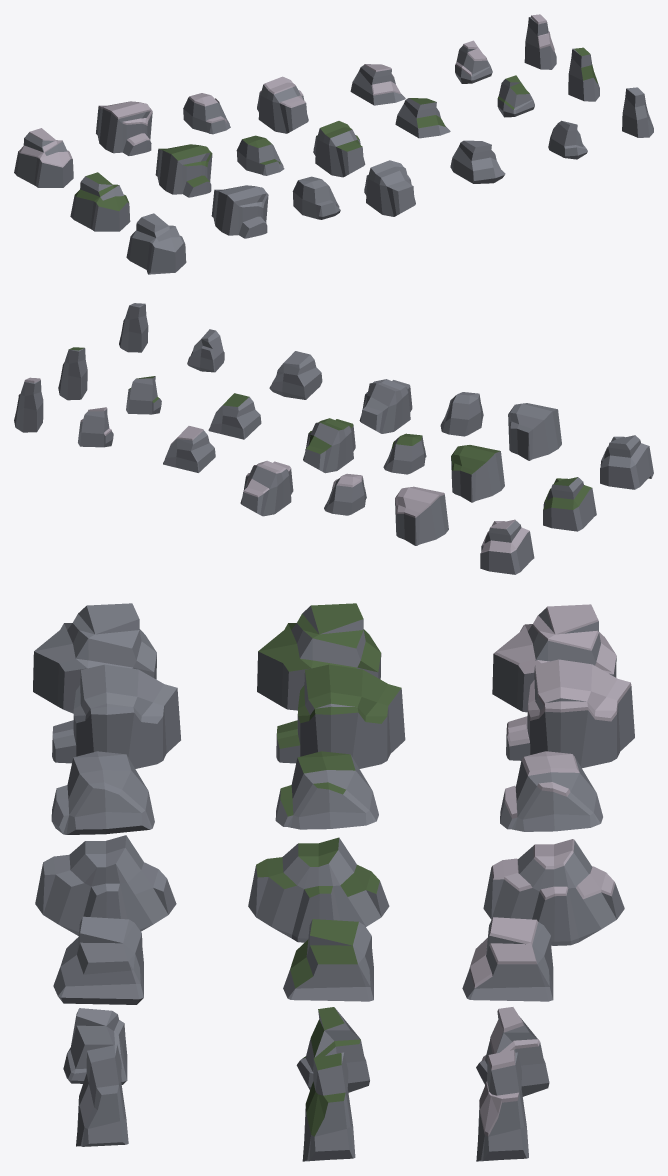
The model's file is rocks.glb.
The picture shows the model from 3 angles, top to bottom: view 1: azimuth 30°, elevation 25°; view 2: azimuth 150°, elevation 25°; view 3: azimuth 270°, elevation 25°; orthographic projection. The views are drawn at different scales.
Parts seen in each view (by area): view 1: Rock_7, Rock_Snow_6, Rock_Snow_7, Rock_Moss_7, Rock_Moss_6, Rock_6, Rock_4, Rock_Snow_4, Rock_Moss_4, Rock_3, Rock_Snow_3, Rock_Moss_3 (+9 smaller); view 2: Rock_Snow_6, Rock_6, Rock_Moss_6, Rock_Snow_7, Rock_7, Rock_Moss_7, Rock_Snow_4, Rock_4, Rock_Moss_4, Rock_3, Rock_Snow_3, Rock_Moss_3 (+9 smaller); view 3: Rock_Snow_6, Rock_6, Rock_Moss_6, Rock_Snow_4, Rock_Moss_4, Rock_4, Rock_7, Rock_Moss_7, Rock_Snow_7, Rock_5, Rock_3, Rock_Snow_5 (+9 smaller).
Part boxes in pixels (x1,y1,x2,y2): Rock_7: (126, 213, 186, 274); Rock_Snow_6: (96, 101, 152, 155); Rock_Snow_7: (14, 128, 73, 187); Rock_Moss_7: (70, 172, 130, 231); Rock_Moss_6: (155, 144, 212, 197); Rock_6: (211, 185, 268, 238); Rock_4: (364, 160, 415, 216); Rock_Snow_4: (257, 76, 308, 133); Rock_Moss_4: (313, 121, 365, 177); Rock_3: (450, 140, 505, 183); Rock_Snow_3: (350, 64, 405, 105); Rock_Moss_3: (395, 98, 450, 138); Rock_Snow_6: (395, 486, 448, 545); Rock_6: (508, 403, 561, 460); Rock_Moss_6: (451, 445, 504, 502); Rock_Snow_7: (480, 519, 534, 574); Rock_7: (600, 435, 653, 489); Rock_Moss_7: (543, 477, 596, 531); Rock_Snow_4: (240, 460, 293, 516); Rock_4: (359, 379, 412, 433); Rock_Moss_4: (303, 418, 355, 473); Rock_3: (269, 351, 322, 399); Rock_Snow_3: (163, 426, 215, 472); Rock_Moss_3: (208, 393, 261, 439); Rock_Snow_6: (506, 659, 634, 768); Rock_6: (52, 664, 180, 768); Rock_Moss_6: (276, 664, 405, 768); Rock_Snow_4: (483, 839, 624, 945); Rock_Moss_4: (248, 837, 389, 942); Rock_4: (35, 835, 176, 935); Rock_7: (33, 603, 156, 713); Rock_Moss_7: (257, 603, 381, 710); Rock_Snow_7: (492, 604, 616, 712); Rock_5: (51, 751, 154, 834); Rock_3: (53, 916, 143, 1004); Rock_Snow_5: (500, 751, 602, 831).
Size of the model in its own units: 12.57 by 1.34 by 6.34.
